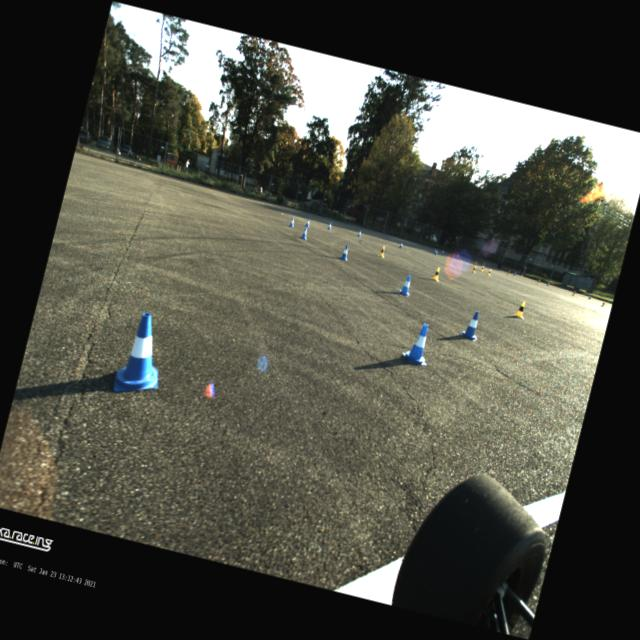blue_cone: (112, 309, 174, 400), (400, 319, 436, 366), (459, 308, 483, 341), (396, 274, 414, 296), (338, 243, 351, 261), (300, 226, 308, 239), (288, 218, 296, 228), (304, 218, 310, 228), (356, 229, 362, 237), (327, 221, 332, 230), (398, 242, 402, 248), (587, 294, 591, 299), (434, 250, 438, 255), (512, 271, 516, 275), (433, 248, 436, 253), (546, 282, 549, 286), (441, 250, 444, 253), (456, 254, 458, 258), (483, 262, 485, 265)
yellow_cone: (512, 299, 527, 319), (431, 266, 442, 282), (377, 245, 386, 258), (486, 268, 492, 276), (471, 265, 476, 273), (472, 260, 477, 268), (600, 300, 605, 307), (480, 264, 484, 272), (536, 278, 541, 284), (571, 290, 575, 296), (506, 270, 510, 276)
